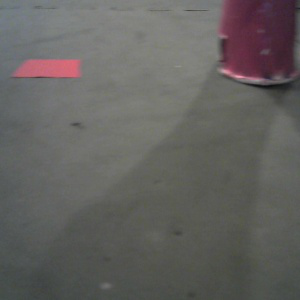right: (216, 1, 300, 90)
